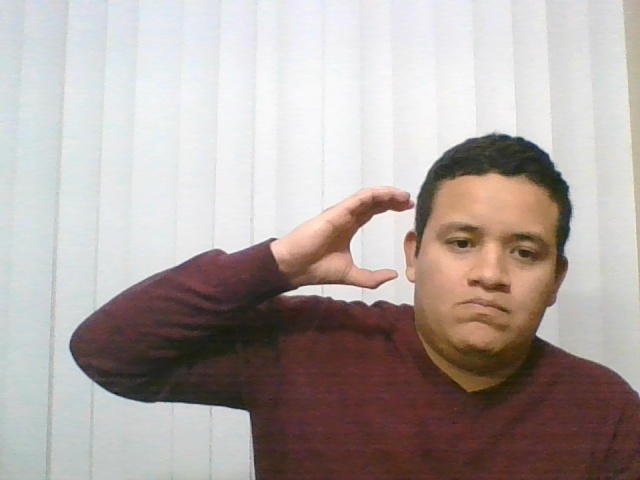Cousin: (262, 167, 438, 318)
